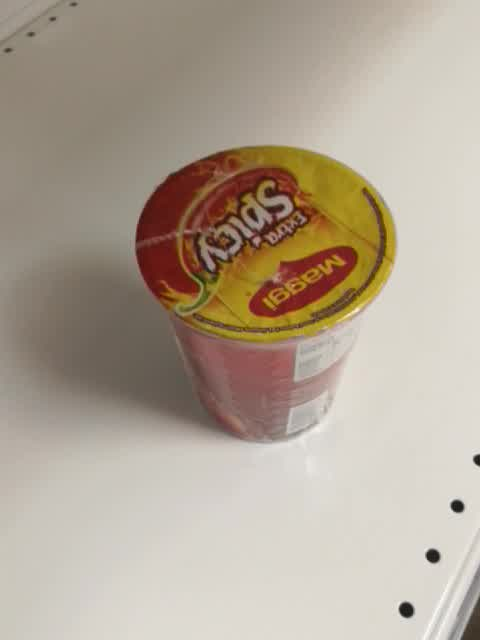maggi: (134, 141, 399, 444)
